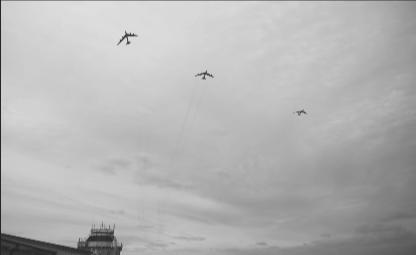B2: (116, 30, 138, 44), (194, 70, 214, 78), (292, 109, 306, 115)
